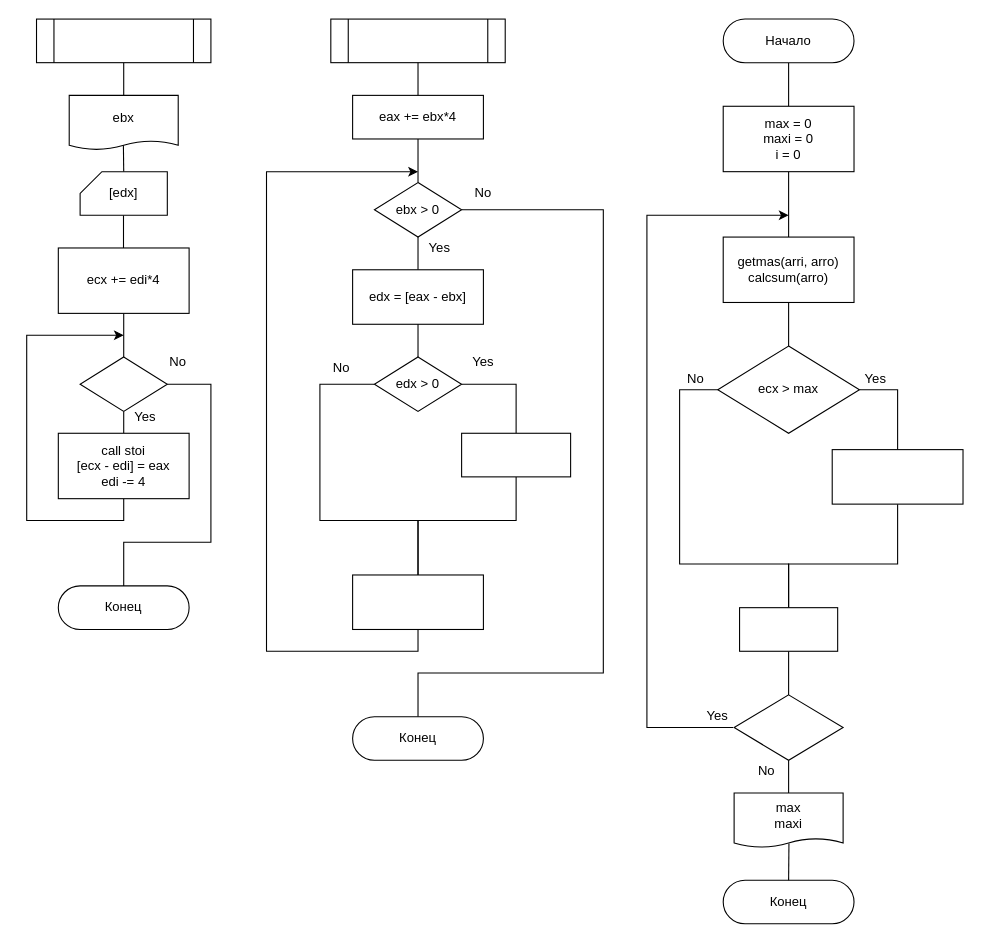
This 982x943 diagram has some shape labels left out. Here are the shapes that lost their labels. From the top down, the centre of each, then its label:
At point 123,40: "getmas".
At point 417,40: "calcsum".
At point 123,383: "edi > 0".
At point 516,454: "ecx += edx".
At point 897,476: "max = ecx maxi = i".
At point 417,601: "ebx -= 4".
At point 788,629: "i++".
At point 788,727: "i < 4".
